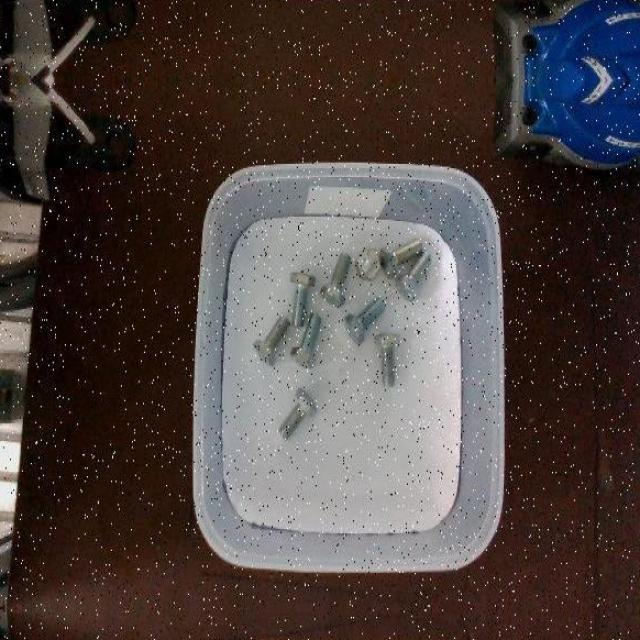screw: (279, 387, 317, 440), (344, 296, 385, 344), (395, 248, 432, 300), (253, 314, 289, 366), (290, 312, 322, 368), (380, 238, 422, 278), (320, 251, 351, 305), (374, 331, 401, 388), (290, 270, 316, 325), (356, 246, 382, 280)
